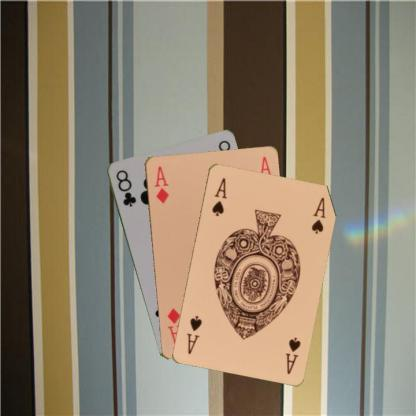8c: (112, 167, 138, 208)
Ad: (151, 163, 170, 204)
As: (209, 174, 228, 218), (282, 334, 301, 375)
